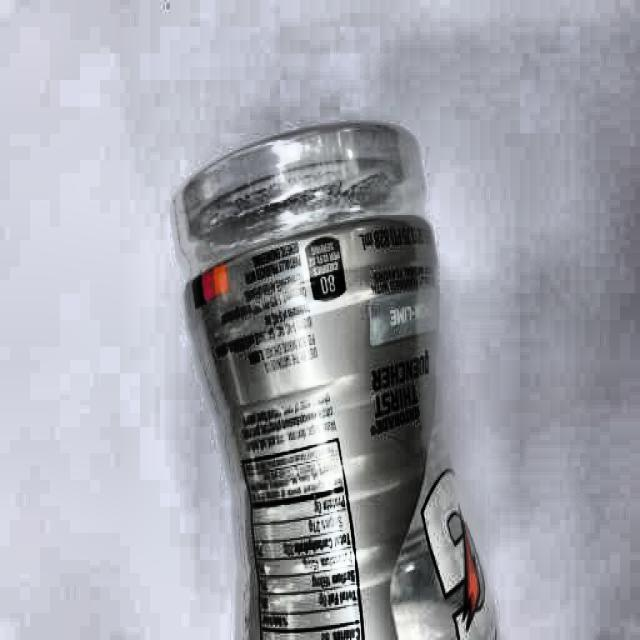plastic: (166, 118, 499, 640)
